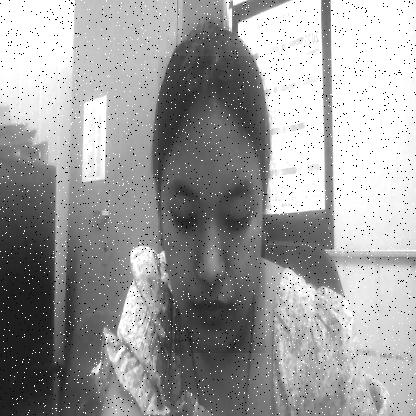Normal: (158, 56, 265, 353)
